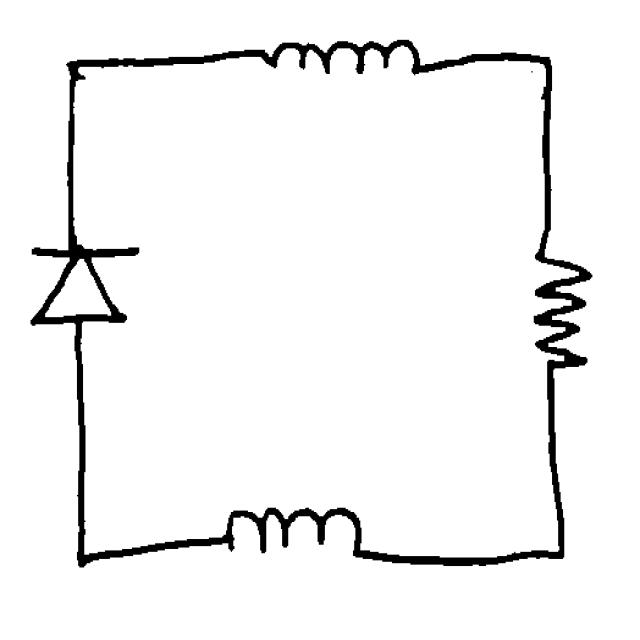diode: (20, 223, 146, 335)
inductor: (236, 23, 440, 90), (215, 494, 377, 572)
resistor: (524, 238, 600, 389)
